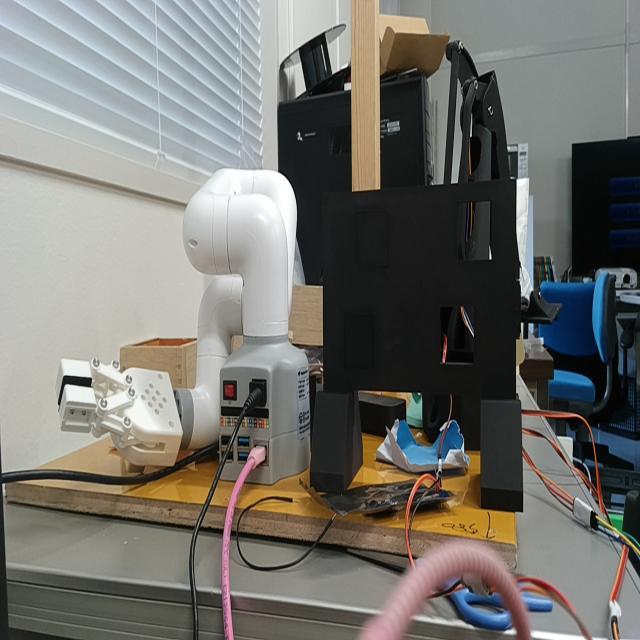Obstacle: (441, 306, 475, 365), (463, 201, 493, 262)
Wall: (324, 181, 517, 395)
